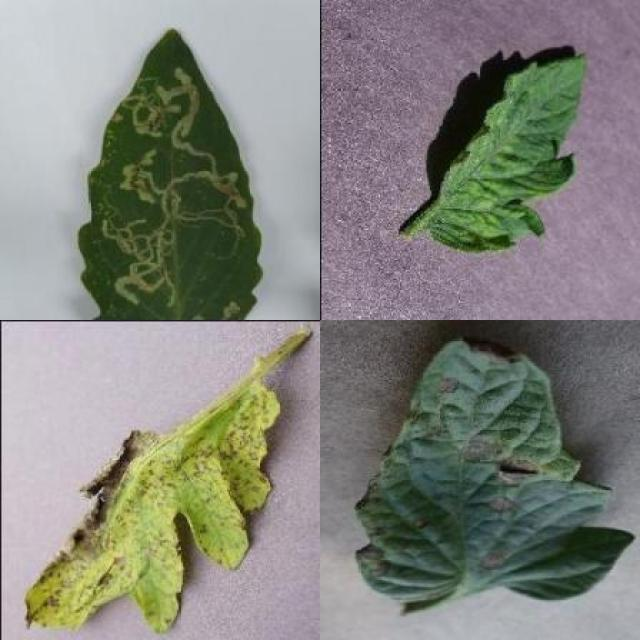Early Blight: (355, 337, 632, 602)
Leaf Miner: (75, 28, 265, 318)
Mosaic Virus: (424, 52, 586, 255)
Septoria: (23, 381, 281, 634)
